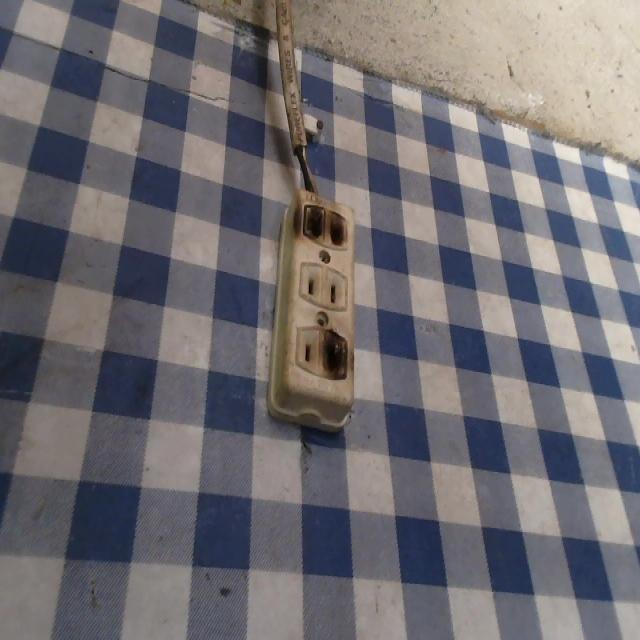-: (290, 193, 351, 255), (316, 322, 356, 382)
